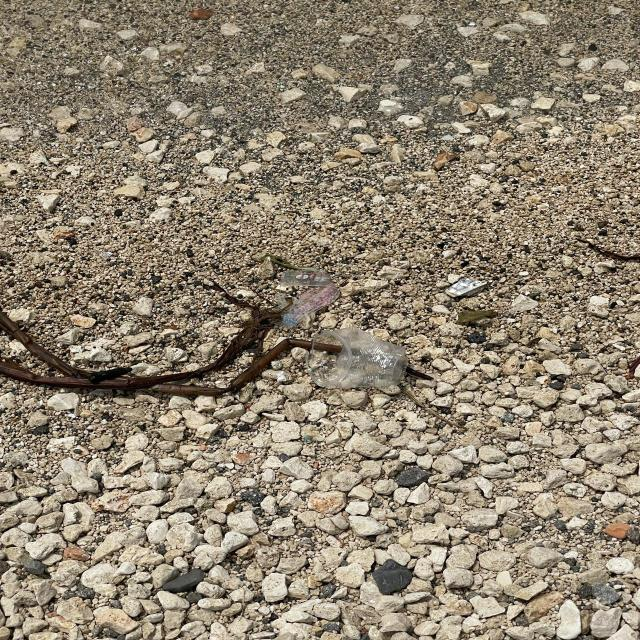litter: (307, 326, 407, 392), (276, 265, 338, 326)
